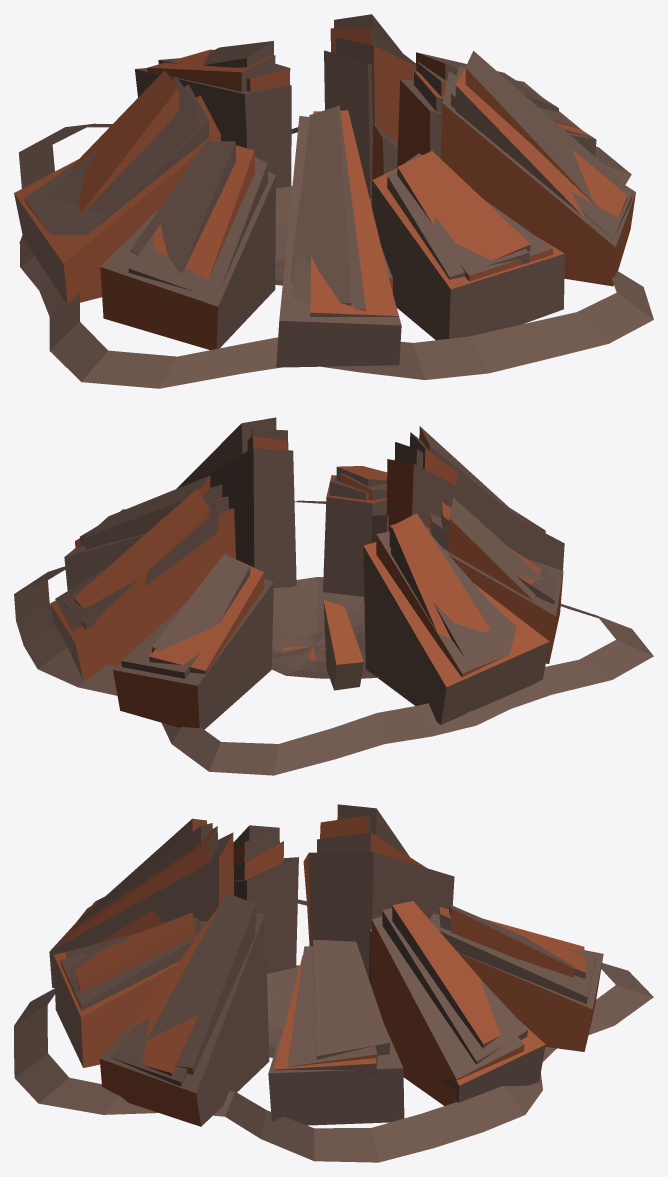
File: landmark_crown_fault_a.glb
The picture shows the model from 3 angles, top to bottom: view 1: azimuth 30°, elevation 25°; view 2: azimuth 150°, elevation 25°; view 3: azimuth 270°, elevation 25°; orthographic projection. The views are drawn at different scales.
Parts seen in each view (by area): view 1: landmark_crown_fault_a_lod0; view 2: landmark_crown_fault_a_lod0; view 3: landmark_crown_fault_a_lod0.
Boxes of the visible parts, <box> form: landmark_crown_fault_a_lod0: <box>14,14,653,388</box>; landmark_crown_fault_a_lod0: <box>14,417,653,775</box>; landmark_crown_fault_a_lod0: <box>14,804,653,1162</box>.
Size of what is drawn, in the model's own units: 13.87 by 4.66 by 13.69.
